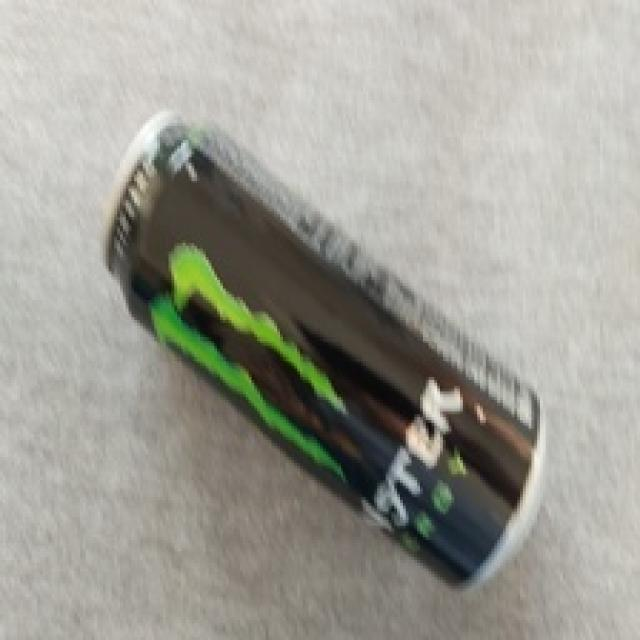recyclable: (99, 106, 552, 592)
